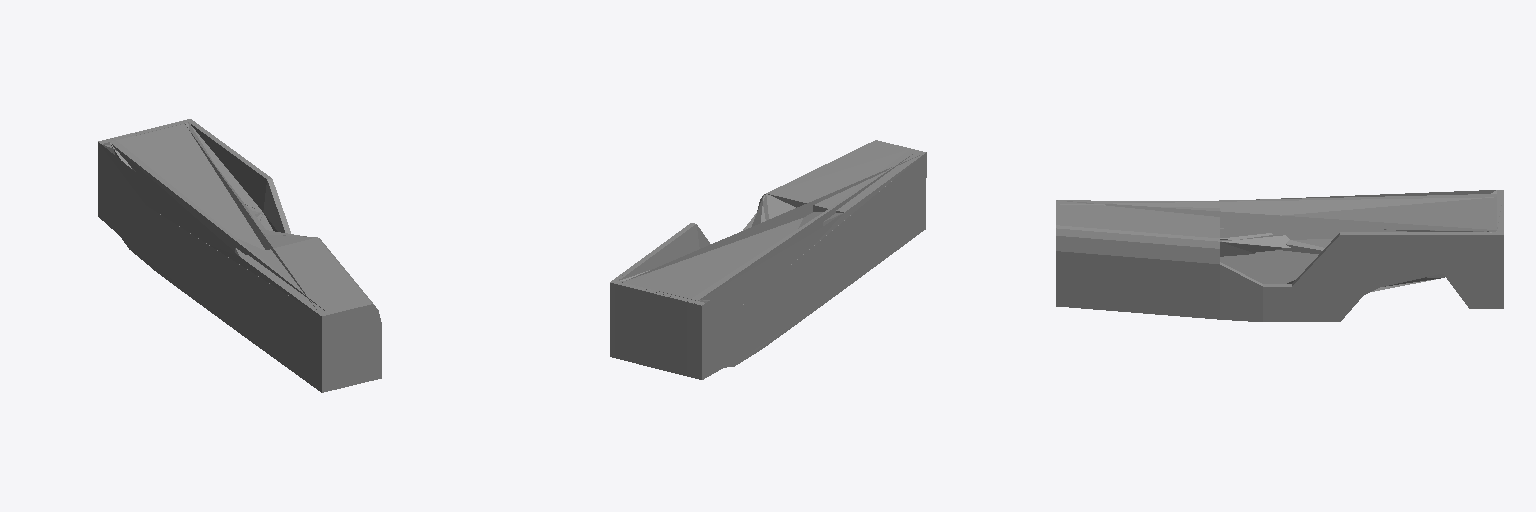
The model's file is jeep Model.obj.
3 views of the same model, side by side, from view 1: azimuth 30°, elevation 25°; view 2: azimuth 150°, elevation 25°; view 3: azimuth 270°, elevation 25° (orthographic).
Visible parts, largest first — view 1: Object18, Object04, Object06, Object11, Object05, Box05, Object21, Object09; view 2: Object18, Object04, Object21, Object06, Object11, Object05, Box05, Object09; view 3: Object04, Object21, Object06, Object18, Object09, Box05.
Part boxes in pixels (left/top/right/bottom): Object18: left=106, top=121, right=327, bottom=315; Object04: left=98, top=119, right=381, bottom=392; Object06: left=98, top=123, right=316, bottom=309; Object11: left=128, top=234, right=320, bottom=333; Object05: left=131, top=250, right=321, bottom=392; Box05: left=98, top=122, right=318, bottom=326; Object21: left=99, top=119, right=381, bottom=391; Object09: left=98, top=121, right=322, bottom=309; Object18: left=619, top=153, right=925, bottom=367; Object04: left=610, top=140, right=925, bottom=379; Object21: left=610, top=140, right=923, bottom=377; Object06: left=620, top=155, right=919, bottom=379; Object11: left=722, top=152, right=926, bottom=364; Object05: left=734, top=153, right=926, bottom=366; Box05: left=622, top=155, right=922, bottom=378; Object09: left=698, top=152, right=920, bottom=364; Object04: left=1056, top=190, right=1503, bottom=321; Object21: left=1056, top=190, right=1503, bottom=321; Object06: left=1057, top=190, right=1496, bottom=283; Object18: left=1094, top=190, right=1502, bottom=277; Object09: left=1060, top=191, right=1496, bottom=291; Box05: left=1220, top=205, right=1501, bottom=294.
Bounding box in the file's own units: 177 × 161 × 739.